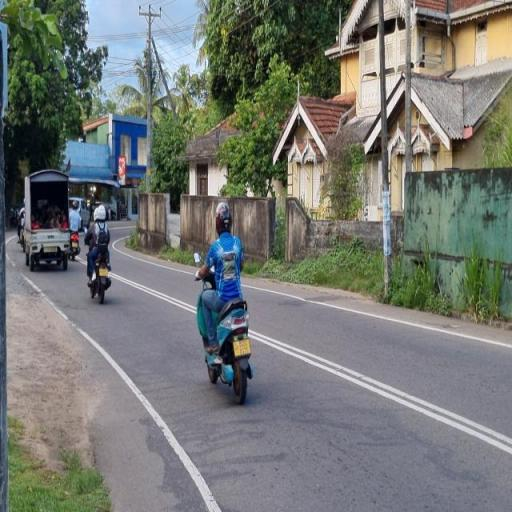double_white_line: (255, 325, 507, 453), (111, 273, 194, 313)
